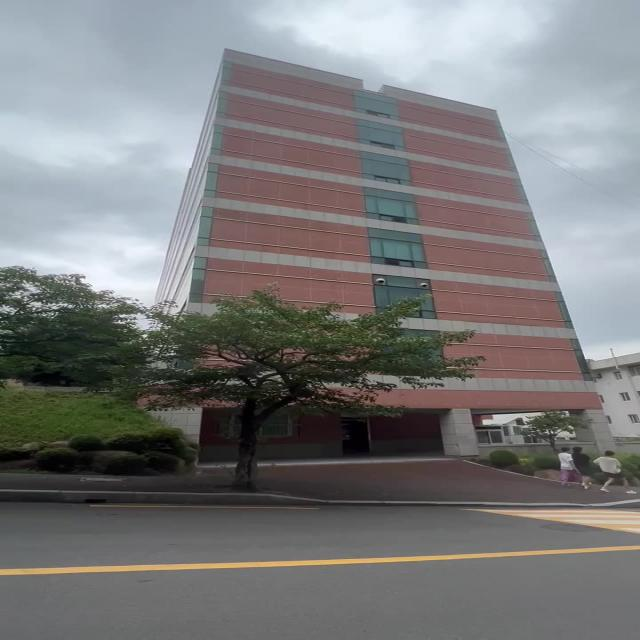building: (137, 51, 530, 308)
